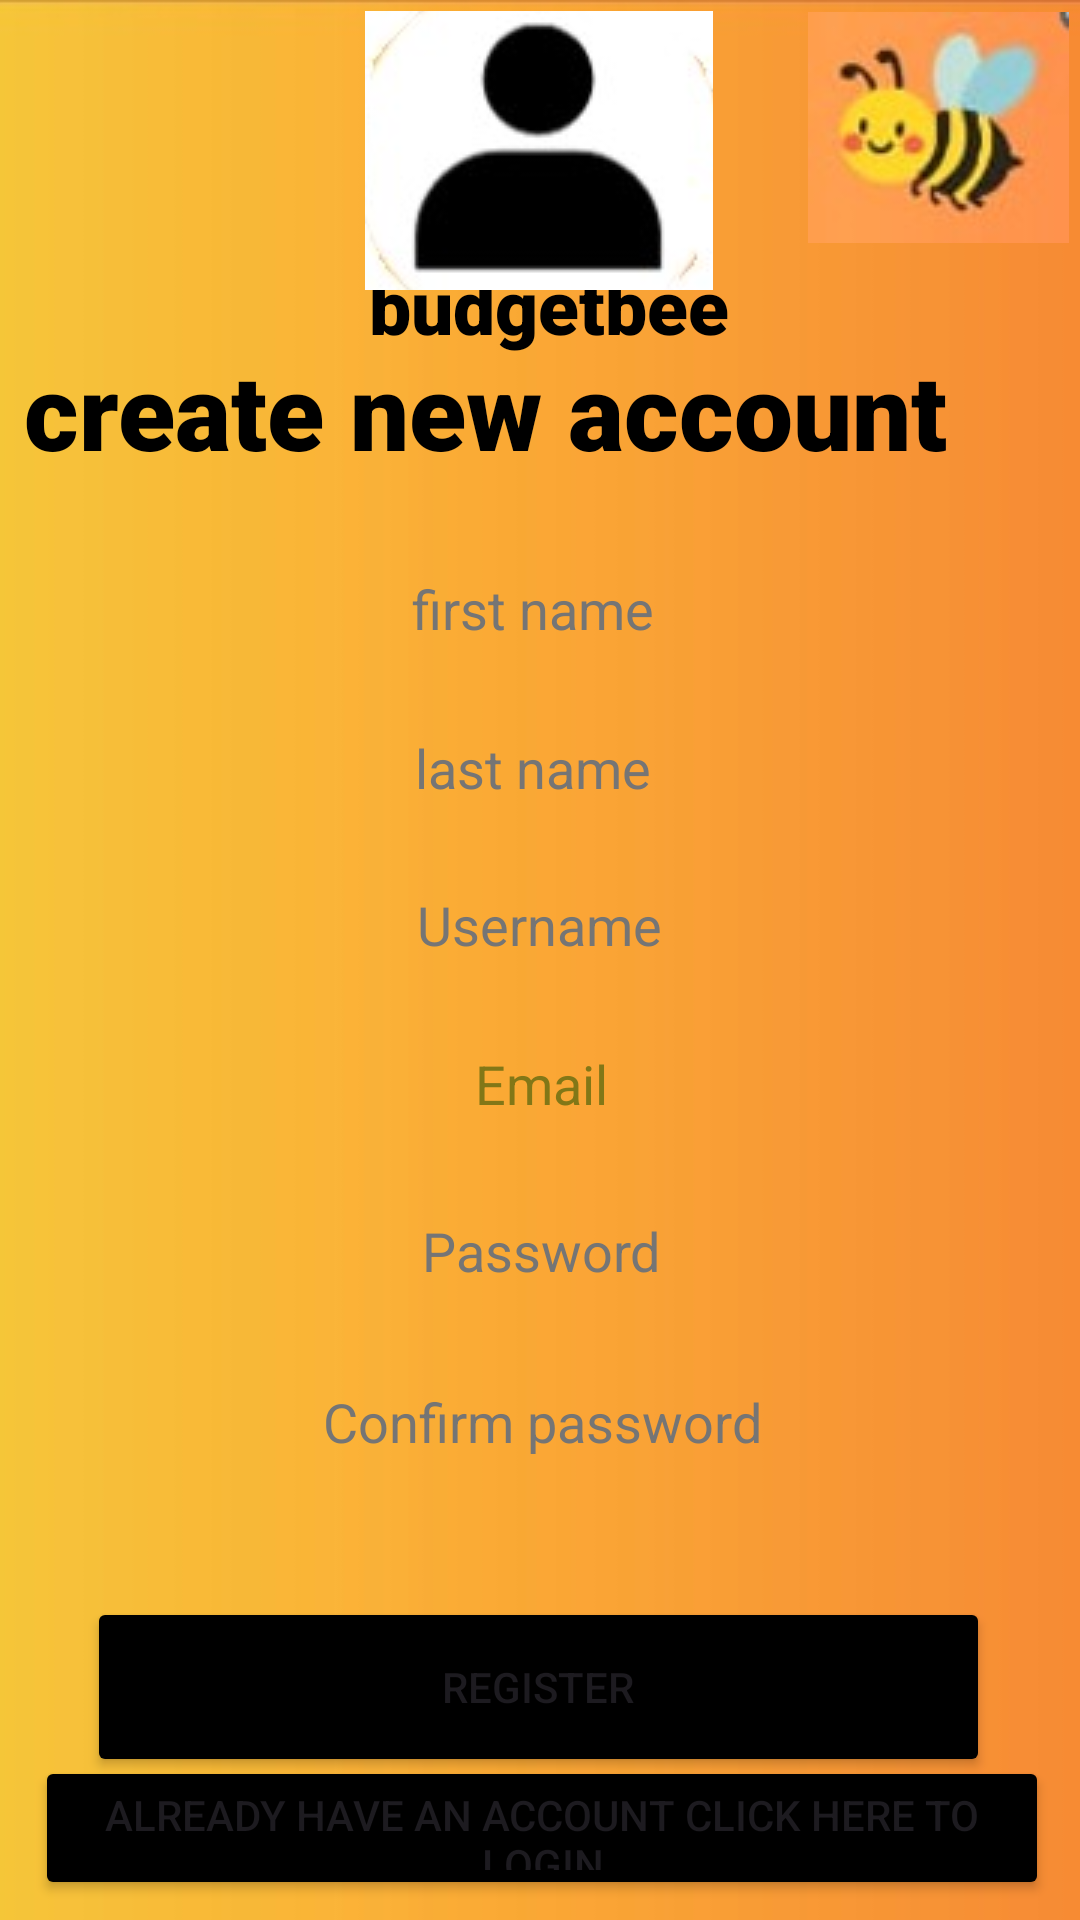

Locate icon controls on the screen. Image size 1080*1920, boxes as (x1, y1, x2, y2).
beeeeeeeee: (808, 12, 1069, 243)
